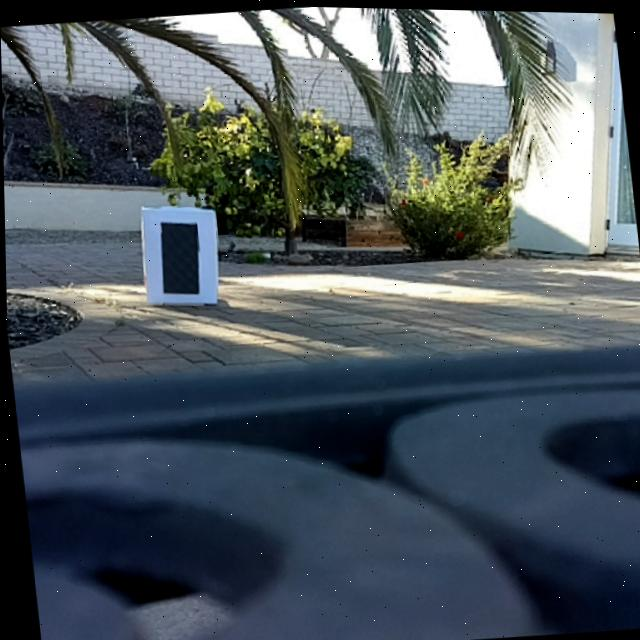led: (153, 216, 205, 298)
